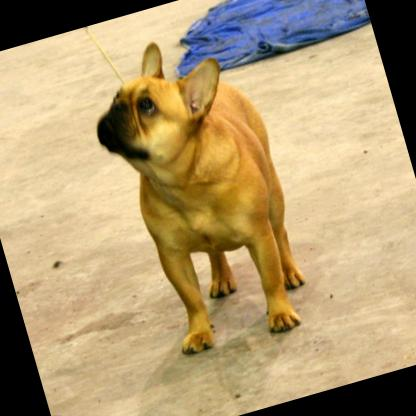French_bulldog: (74, 15, 320, 366)
